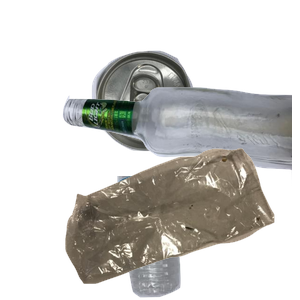glass: (60, 84, 300, 260)
metal: (89, 48, 276, 192)
plastic: (115, 176, 288, 300)
trash: (63, 145, 300, 300)
